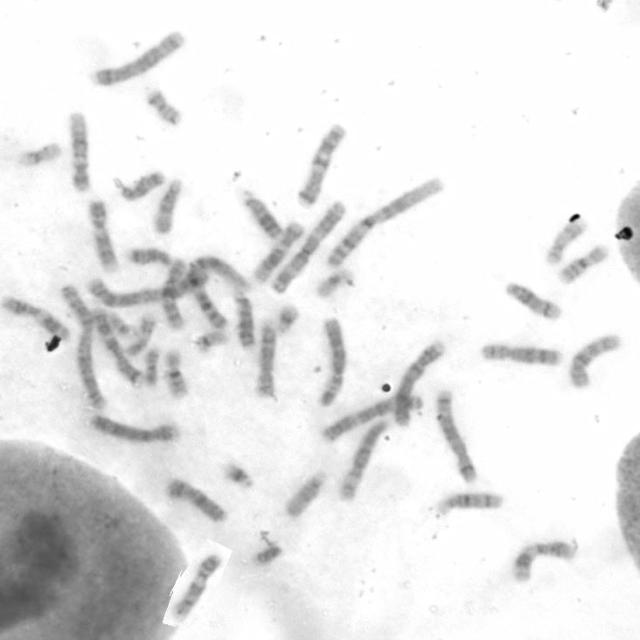A1: (321, 165, 455, 271), (180, 252, 250, 334)
A2: (57, 281, 108, 412), (84, 259, 212, 310)
A3: (267, 195, 348, 295), (319, 390, 424, 445)
B4: (388, 336, 447, 428), (86, 412, 182, 446)
B5: (87, 26, 188, 88), (431, 384, 479, 484)
C10: (564, 328, 625, 389), (157, 256, 189, 331)
C11: (0, 293, 71, 341), (508, 537, 578, 584)
C12: (248, 217, 306, 284), (64, 107, 93, 193)
C6: (333, 416, 389, 502), (313, 314, 349, 408)
C7: (293, 120, 349, 210), (89, 304, 145, 386)
C8: (476, 338, 564, 368), (251, 314, 278, 400)
C9: (170, 550, 223, 622), (84, 195, 121, 274)
D13: (234, 183, 285, 241), (227, 287, 258, 351)
D14: (499, 276, 565, 323), (435, 488, 507, 517)
D15: (280, 466, 330, 520), (148, 174, 184, 236)
E16: (554, 240, 610, 286), (160, 346, 191, 400)
E17: (540, 214, 590, 268), (121, 310, 158, 357)
E18: (130, 238, 184, 282), (110, 164, 167, 202)
F19: (311, 263, 355, 300), (13, 137, 64, 168)
F20: (141, 84, 184, 128), (139, 344, 163, 386)
G21: (218, 457, 256, 490), (271, 299, 302, 336)
G22: (191, 326, 230, 354), (105, 309, 132, 337)
X: (162, 473, 230, 525)
Y: (254, 544, 283, 564)
